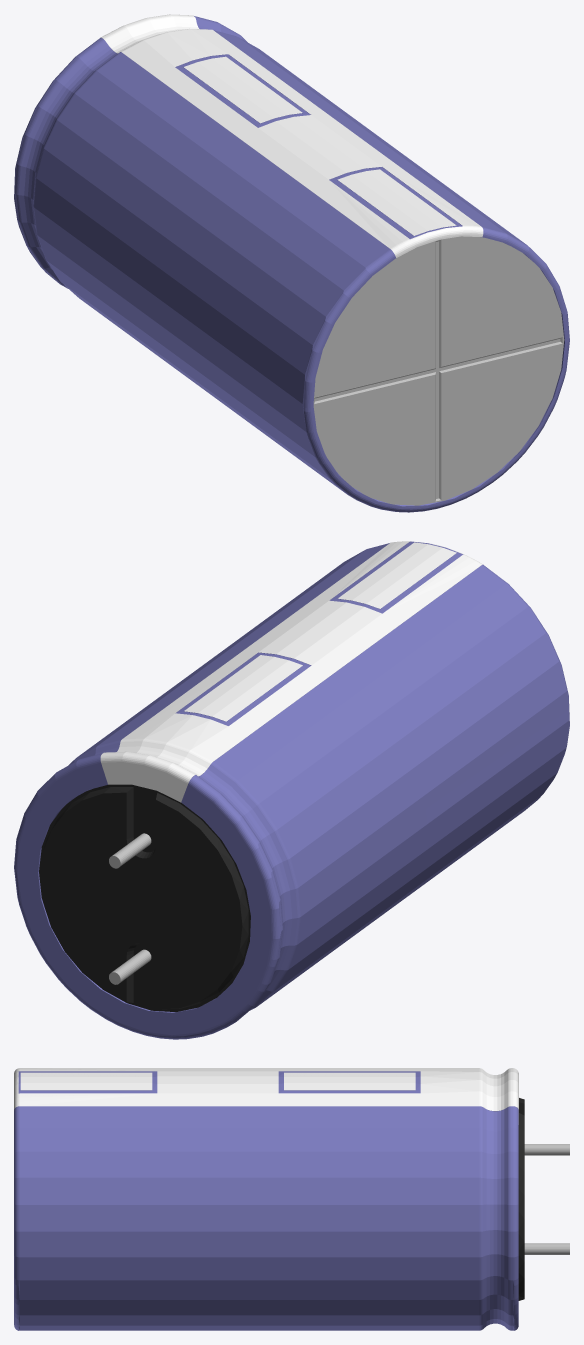
Rendered from cap_el_d18_h35_pitch7.5_w0.8.obj.
The picture shows the model from 3 angles, top to bottom: view 1: azimuth 30°, elevation 25°; view 2: azimuth 150°, elevation 25°; view 3: azimuth 270°, elevation 25°; orthographic projection. The views are drawn at different scales.
Visible parts, largest first — view 1: cap_el_d18_h35_pitch7.5_w0.8; view 2: cap_el_d18_h35_pitch7.5_w0.8; view 3: cap_el_d18_h35_pitch7.5_w0.8.
Part boxes in pixels (bbox=[...]): cap_el_d18_h35_pitch7.5_w0.8: bbox=[14, 14, 569, 512]; cap_el_d18_h35_pitch7.5_w0.8: bbox=[14, 541, 569, 1039]; cap_el_d18_h35_pitch7.5_w0.8: bbox=[14, 1068, 569, 1330].
Bounding box in the file's own units: 0.0133 × 0.0133 × 0.0281.
